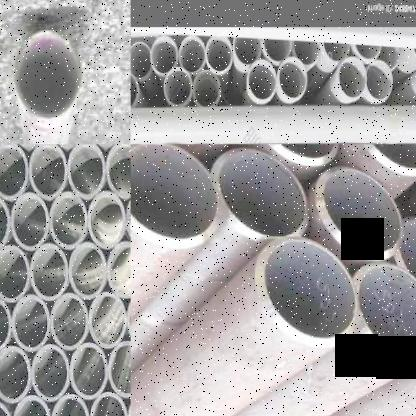pipe: (259, 237, 357, 342), (130, 144, 219, 244), (214, 148, 310, 240), (315, 166, 404, 258), (14, 29, 81, 121), (353, 262, 416, 358), (11, 193, 49, 251), (49, 191, 87, 249), (88, 292, 126, 349), (30, 244, 68, 301), (29, 144, 67, 201), (32, 343, 69, 401), (88, 191, 125, 249), (51, 293, 88, 350), (69, 243, 107, 298), (13, 295, 50, 351), (71, 343, 107, 399), (68, 144, 104, 200), (352, 144, 416, 175), (396, 218, 416, 306), (0, 346, 29, 403), (0, 245, 29, 302), (0, 144, 28, 201), (252, 144, 339, 162), (107, 341, 130, 398), (107, 241, 130, 298), (106, 144, 130, 198), (247, 60, 277, 100), (340, 56, 368, 98), (279, 57, 307, 98), (366, 60, 393, 100), (164, 68, 192, 106), (150, 36, 177, 74), (193, 70, 220, 107), (179, 36, 205, 73), (206, 37, 232, 72), (90, 392, 127, 416), (130, 41, 152, 78), (52, 394, 89, 416), (13, 396, 51, 416), (234, 38, 262, 65), (293, 41, 320, 66), (264, 38, 292, 62), (0, 295, 11, 353), (319, 42, 351, 61), (352, 43, 383, 62), (0, 194, 10, 251), (131, 72, 138, 109), (0, 400, 11, 415), (413, 48, 416, 62)
